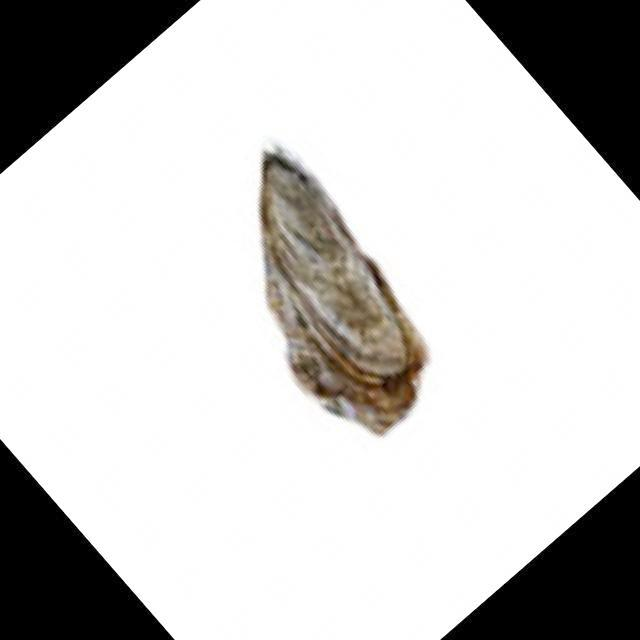Oyster-Closed: (258, 140, 431, 439)
